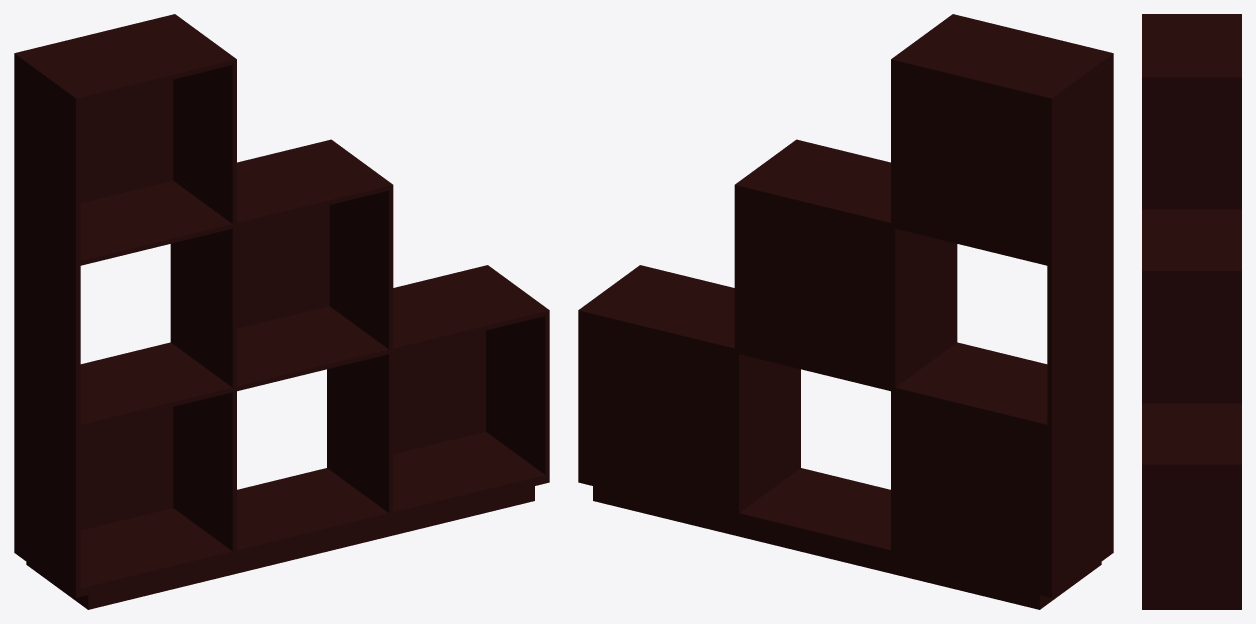
Rendered from Wooden book Shelf.fbx.
The picture shows the model from 3 angles, left to right: view 1: azimuth 30°, elevation 25°; view 2: azimuth 150°, elevation 25°; view 3: azimuth 270°, elevation 25°; orthographic projection. The views are drawn at different scales.
Parts seen in each view (by area): view 1: Joined Solid Geometry [4596], Joined Solid Geometry [4597], Extrusion [4439], Extrusion [4446], Extrusion [2890], Extrusion [3153]; view 2: Joined Solid Geometry [4596], Joined Solid Geometry [4597], Extrusion [4439], Extrusion [4446], Extrusion [2890], Extrusion [3153]; view 3: Joined Solid Geometry [4596], Extrusion [2890], Extrusion [3153].
Boxes of the visible parts, bbox=[...] form: Joined Solid Geometry [4596]: bbox=[14, 14, 549, 530]; Joined Solid Geometry [4597]: bbox=[14, 191, 393, 593]; Extrusion [4439]: bbox=[80, 79, 173, 202]; Extrusion [4446]: bbox=[237, 205, 329, 328]; Extrusion [2890]: bbox=[26, 486, 534, 609]; Extrusion [3153]: bbox=[14, 478, 549, 597]; Joined Solid Geometry [4596]: bbox=[578, 14, 1113, 588]; Joined Solid Geometry [4597]: bbox=[734, 217, 1113, 593]; Extrusion [4439]: bbox=[895, 65, 1047, 260]; Extrusion [4446]: bbox=[739, 190, 890, 386]; Extrusion [2890]: bbox=[593, 486, 1101, 609]; Extrusion [3153]: bbox=[578, 478, 1113, 597]; Joined Solid Geometry [4596]: bbox=[1142, 14, 1241, 600]; Extrusion [2890]: bbox=[1142, 603, 1241, 609]; Extrusion [3153]: bbox=[1142, 600, 1241, 603].
Bounding box in the file's own units: 53 × 55 × 12.
